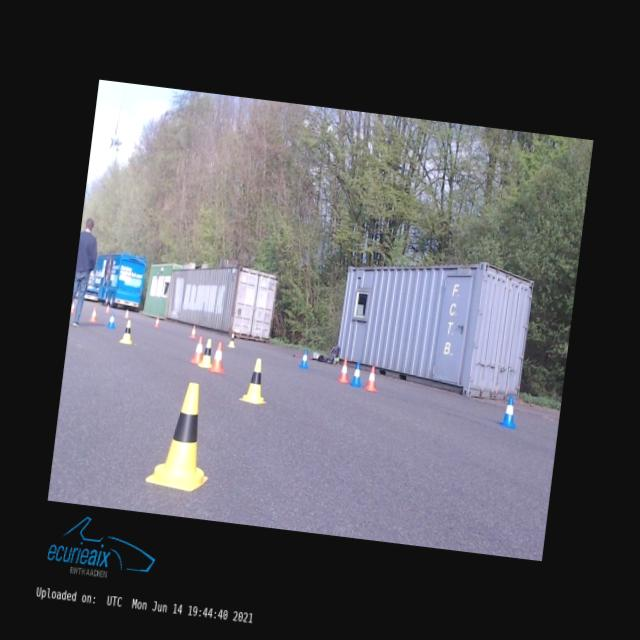blue_cone: (499, 395, 518, 428), (349, 362, 364, 388), (298, 349, 310, 368), (106, 312, 116, 328)
orange_cone: (208, 341, 228, 373), (190, 336, 204, 364), (364, 365, 379, 391), (337, 359, 351, 384), (89, 306, 98, 322), (190, 324, 197, 337), (154, 316, 160, 328), (70, 300, 76, 312), (124, 308, 129, 318), (105, 305, 110, 312)
yellow_cone: (144, 378, 219, 492), (238, 356, 271, 404), (198, 338, 215, 368), (119, 319, 134, 343), (227, 332, 236, 347)
